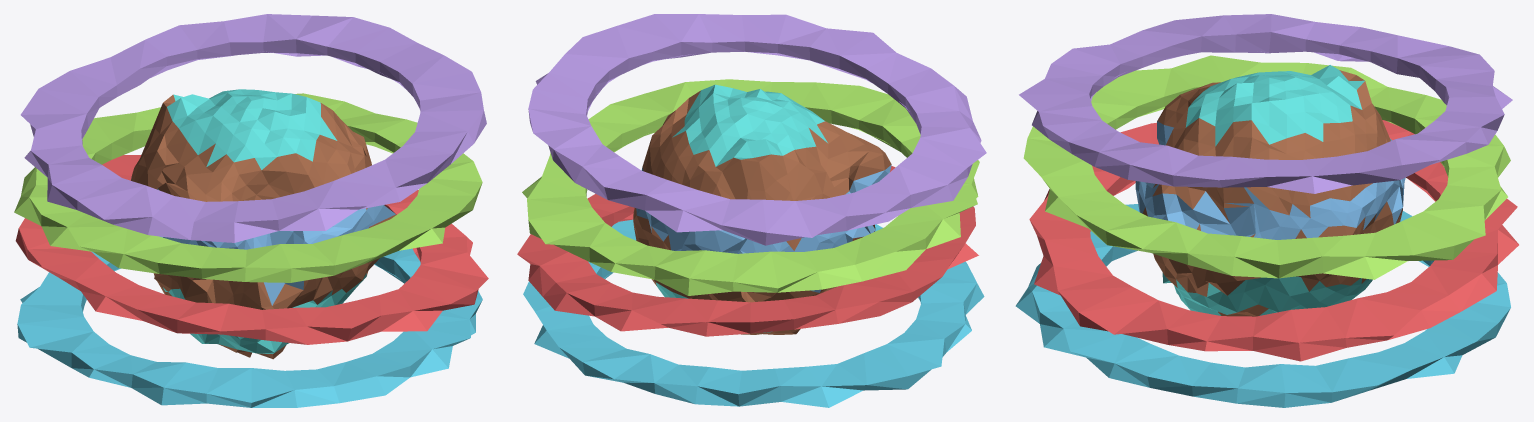
Rendered from Planet.fbx.
The picture shows the model from 3 angles, left to right: view 1: azimuth 30°, elevation 25°; view 2: azimuth 150°, elevation 25°; view 3: azimuth 270°, elevation 25°; orthographic projection. The views are drawn at different scales.
Visible parts, largest first — view 1: Cylinder.010; view 2: Cylinder.010; view 3: Cylinder.010.
Boxes of the visible parts, <box> form: Cylinder.010: <box>14,14,488,407</box>; Cylinder.010: <box>517,14,986,407</box>; Cylinder.010: <box>1015,14,1518,407</box>.
Size of the model in its own units: 2776 by 1557 by 2796.
